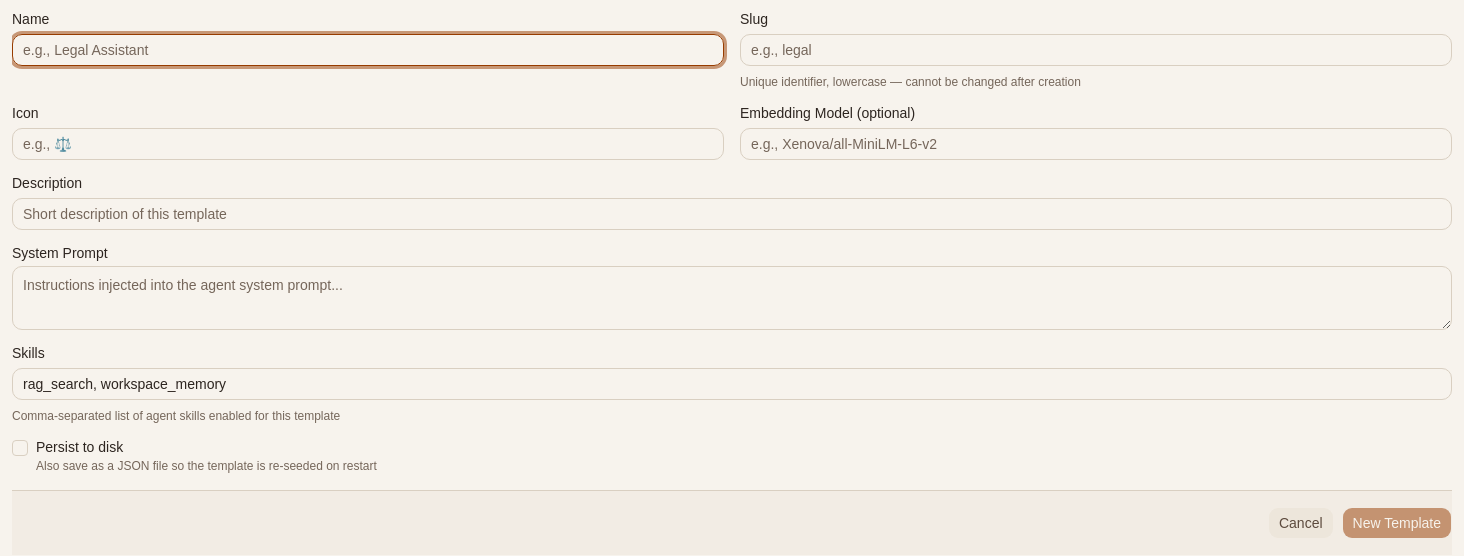
Test: TemplateForm (Phase 112-01) › enables submit button when name, slug, and systemPrompt are filled
The image size is (1464, 556).
In the field labelled "Name": coordinates (368, 50) [12,34,724,66], type "Test Template"
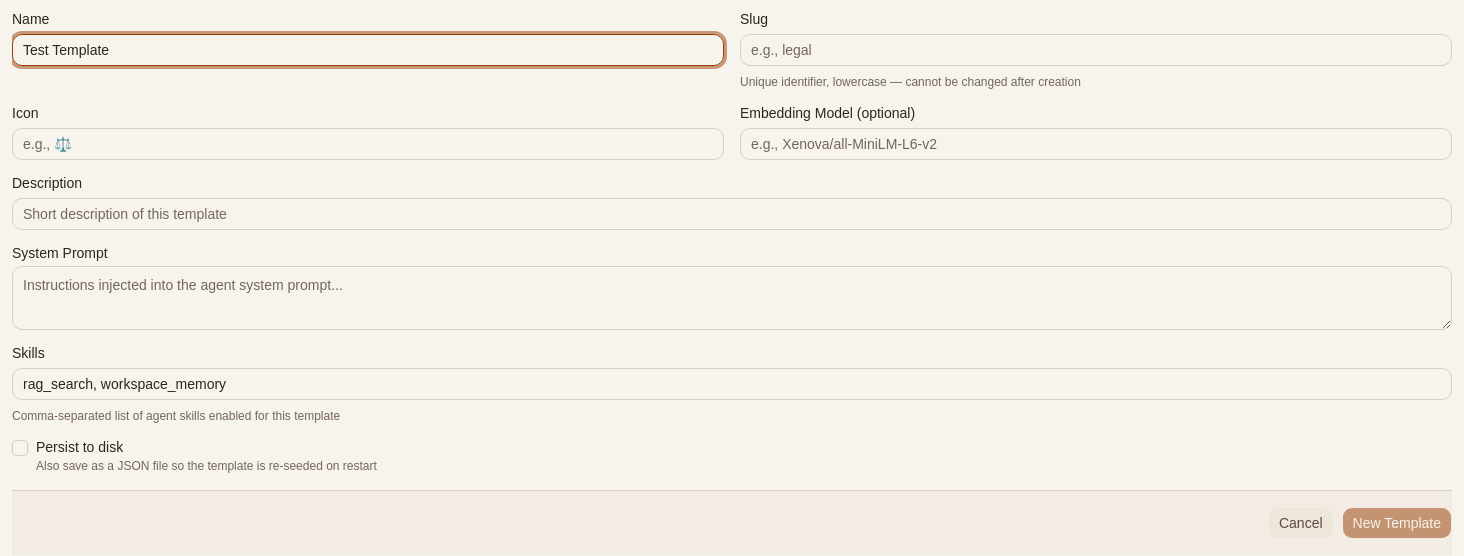
In the field labelled "Slug": coordinates (1096, 50) [740,34,1452,66], type "test"
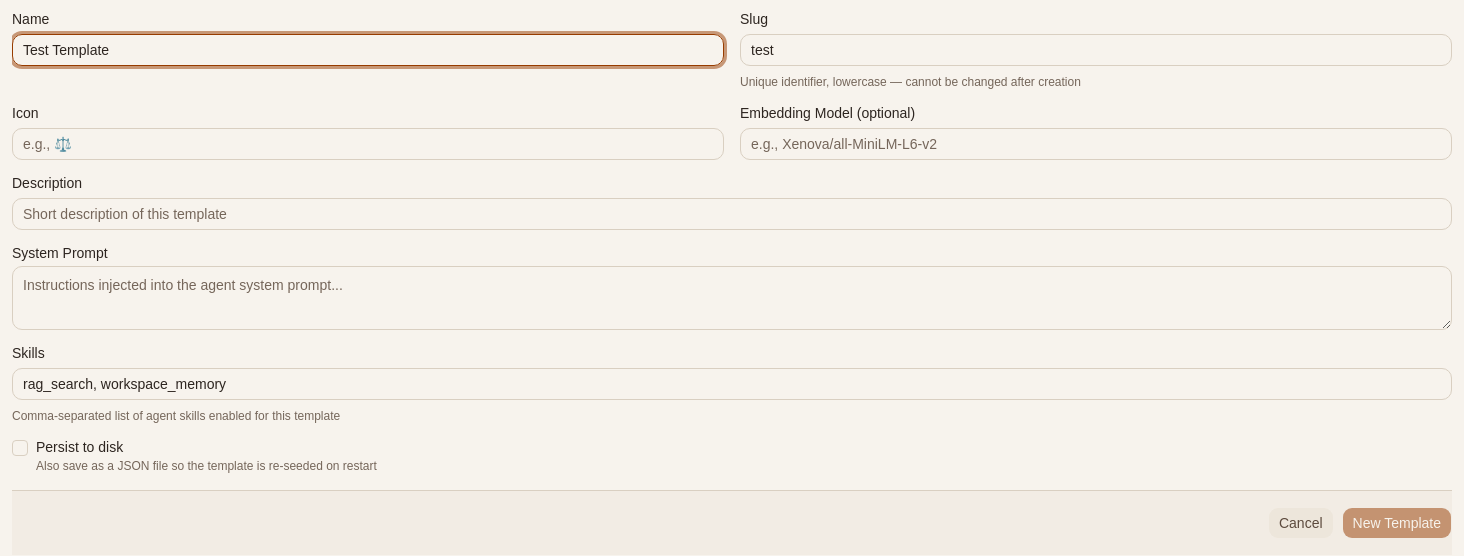
In the text box labelled "System Prompt": coordinates (732, 298) [12,266,1452,330], type "You are a test assistant."
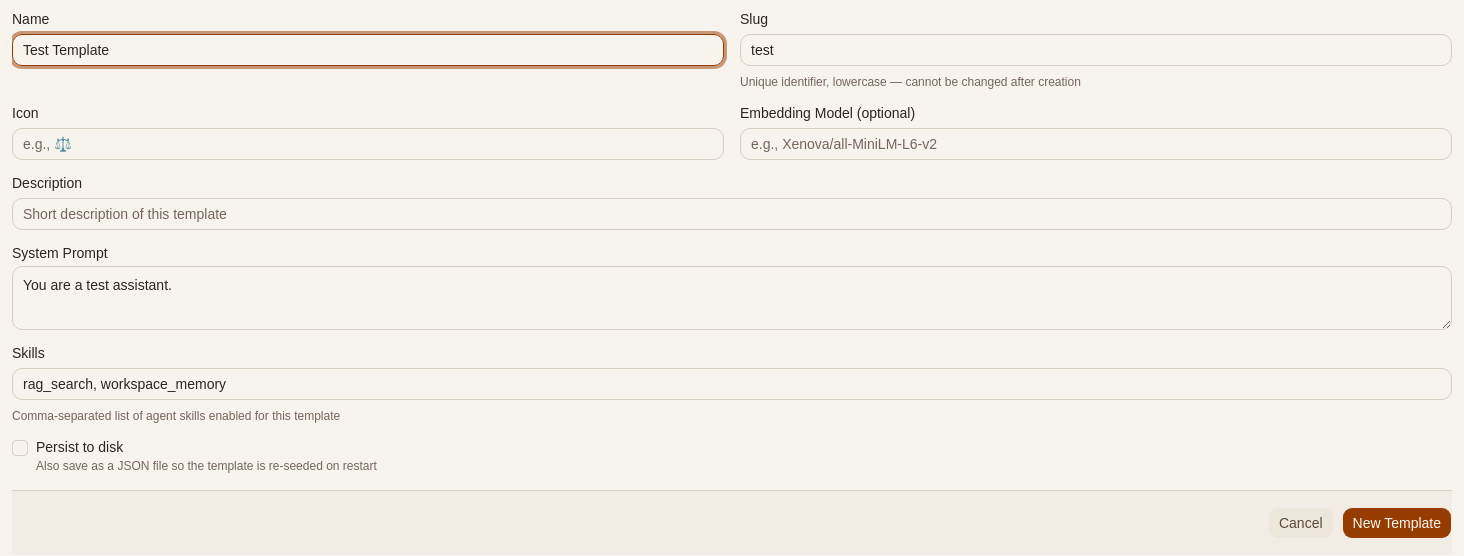
Check: the button "New Template" is enabled, box [1342,507,1452,539]
